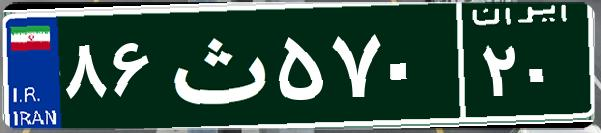0: (385, 28, 445, 110), (525, 38, 570, 115)
2: (475, 38, 525, 113)
5: (273, 28, 330, 110)
6: (110, 28, 158, 105)
7: (330, 28, 385, 110)
8: (57, 26, 110, 107)
ث: (158, 15, 273, 115)
